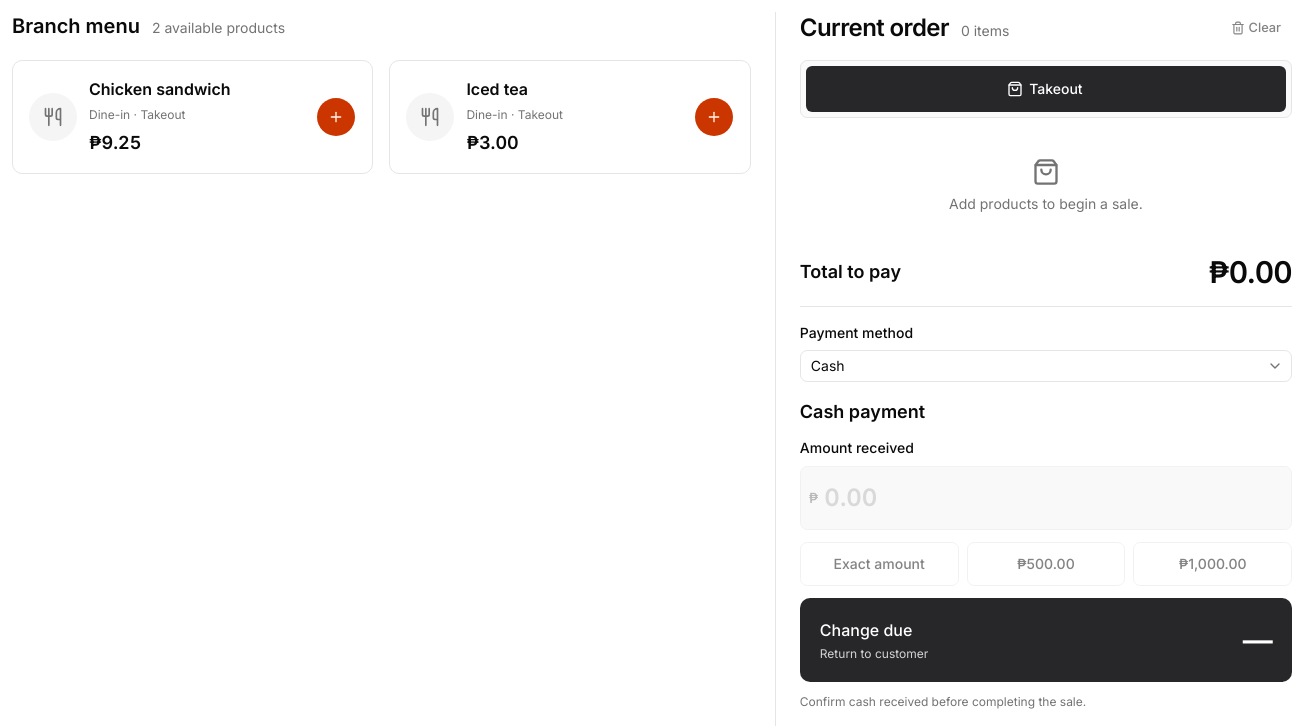
Test case: POS checkout › prompts staff to check order details when the cart input is invalid
This screenshot has width=1304, height=726.
Click the button named "Add Chicken sandwich" at (336, 117), box [316, 97, 356, 137]
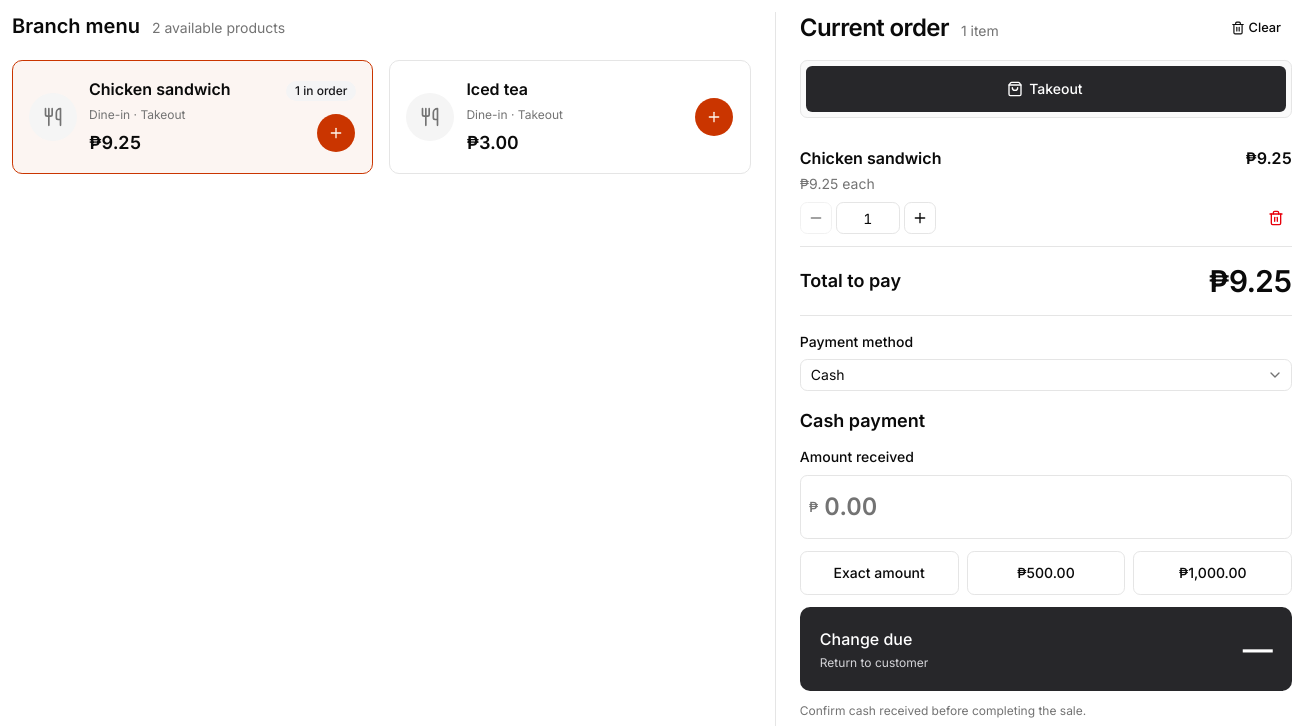
Replace the text in the field named "Quantity for Chicken sandwich" with "0" at (868, 218), box [836, 202, 900, 234]
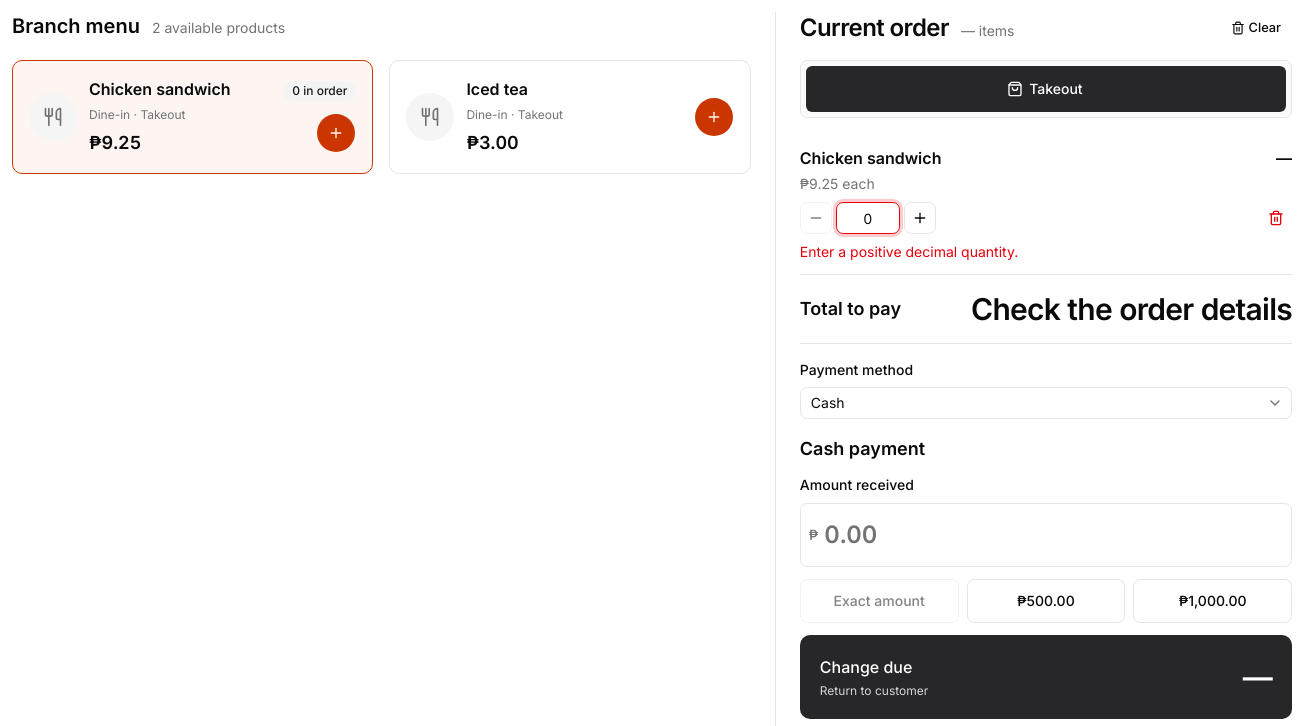
Expected: the text named "Estimated total" reads "Check the order details", [971, 291, 1292, 327]
